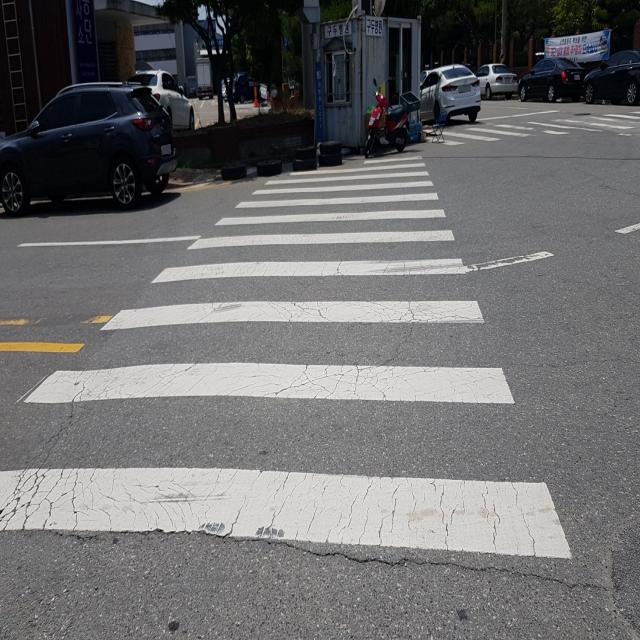횡단보도: (0, 154, 575, 564), (423, 113, 640, 145)
